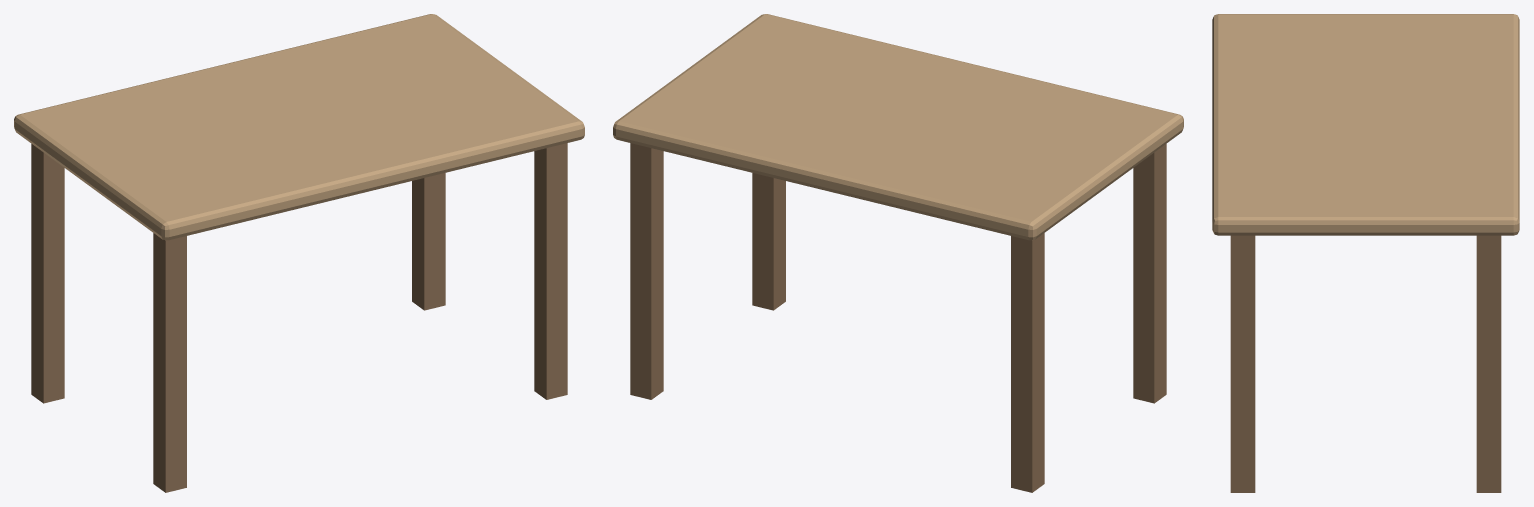
Rendered from fur_table.glb.
The picture shows the model from 3 angles, left to right: view 1: azimuth 30°, elevation 25°; view 2: azimuth 150°, elevation 25°; view 3: azimuth 270°, elevation 25°; orthographic projection.
Visible parts, largest first — view 1: fur_table; view 2: fur_table; view 3: fur_table.
Part boxes in pixels (bbox=[...]): fur_table: bbox=[14, 14, 584, 492]; fur_table: bbox=[613, 14, 1183, 492]; fur_table: bbox=[1212, 14, 1519, 492].
Size of the model in its own units: 1.2 by 0.75 by 0.75.
